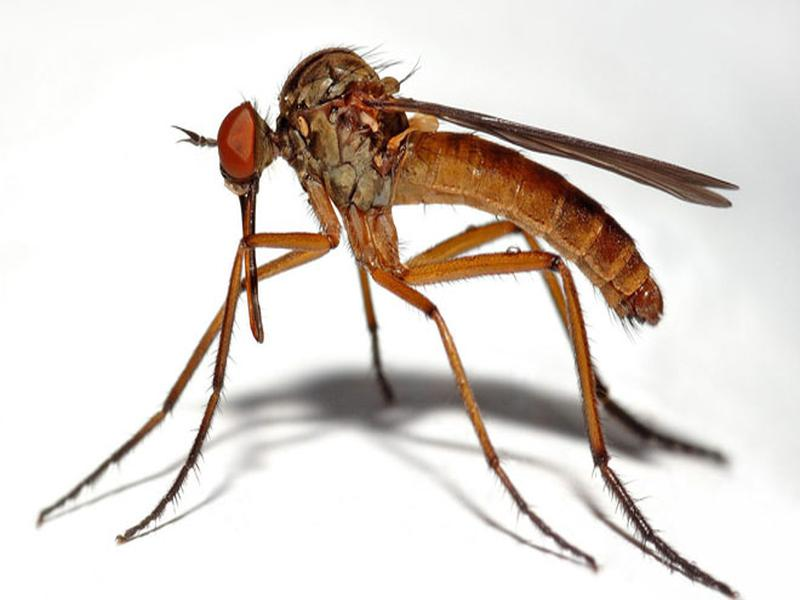Gall_midge: (84, 33, 767, 574)
